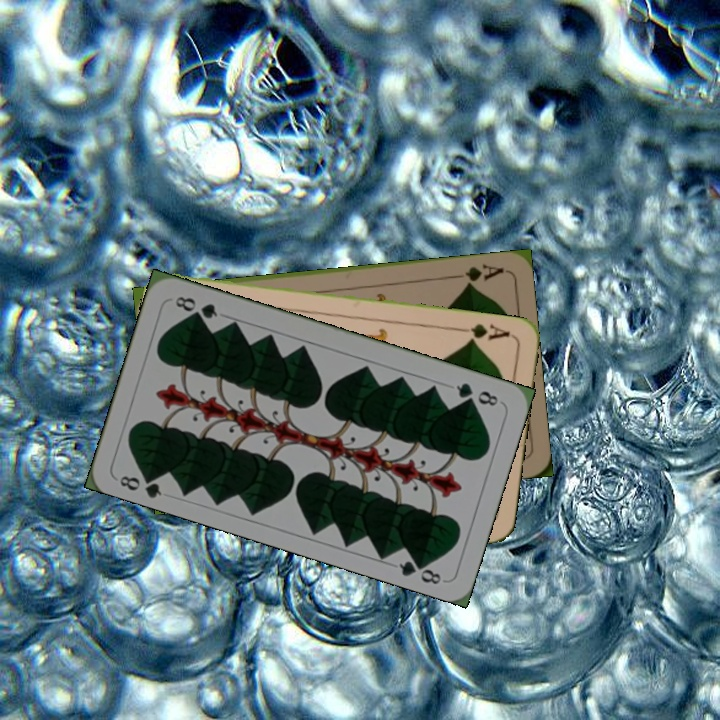G8: (115, 467, 165, 501), (451, 378, 501, 409)
GA: (448, 260, 507, 289), (455, 319, 512, 345)
